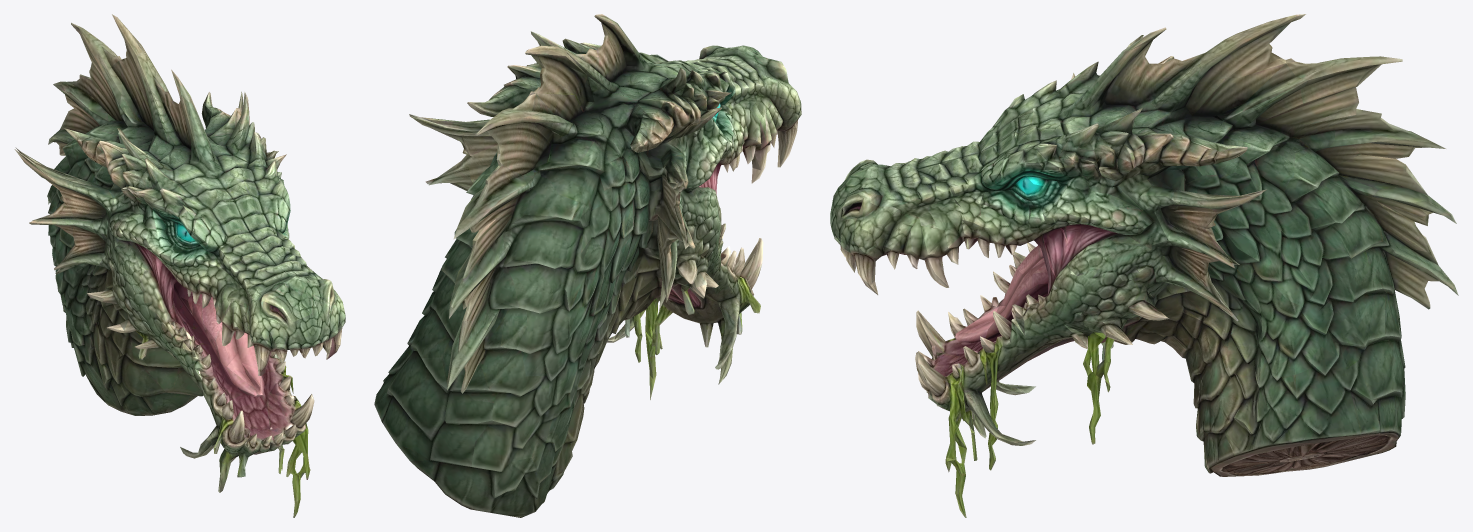
File: drago.glb
3 renders of one model, left to right at view 1: azimuth 30°, elevation 25°; view 2: azimuth 150°, elevation 25°; view 3: azimuth 270°, elevation 25°, orthographic. The views are drawn at different scales.
Bounding box in the file's own units: 0.956 × 1.61 × 1.9.
1 material, 1 textured.
